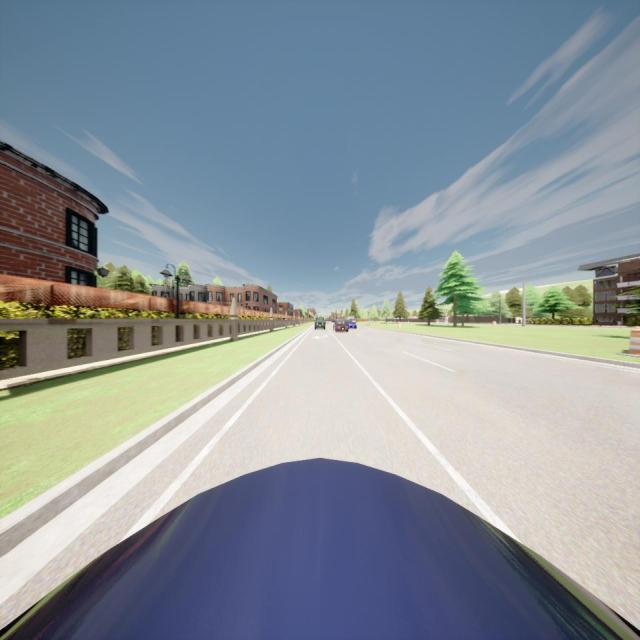Vehicle: (3, 453, 640, 640), (333, 320, 349, 332), (314, 317, 326, 330), (348, 321, 356, 329), (344, 316, 355, 321)
